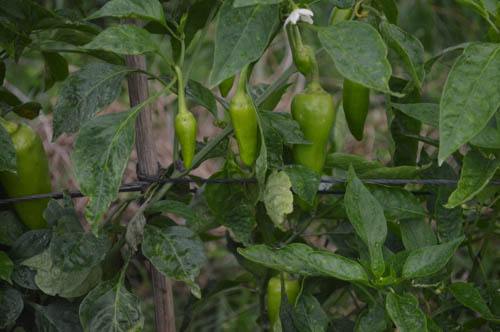ChiliPepper: (7, 126, 51, 220), (290, 94, 335, 182), (226, 100, 262, 166), (336, 79, 368, 136), (265, 275, 302, 320), (173, 113, 200, 166)
